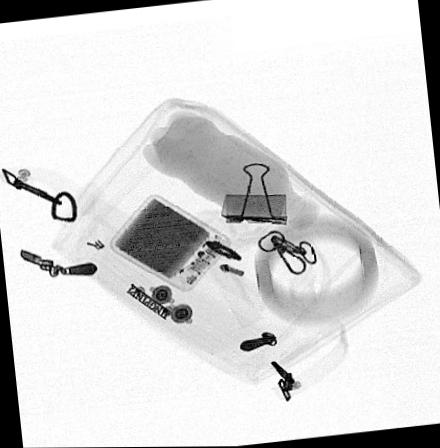Powerbank: (107, 192, 231, 293)
